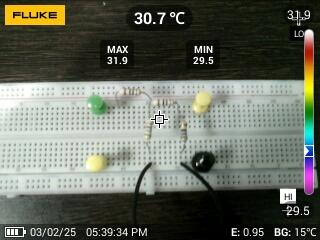resistor: (150, 96, 178, 109), (175, 120, 189, 145), (142, 118, 155, 142), (117, 87, 143, 97)
